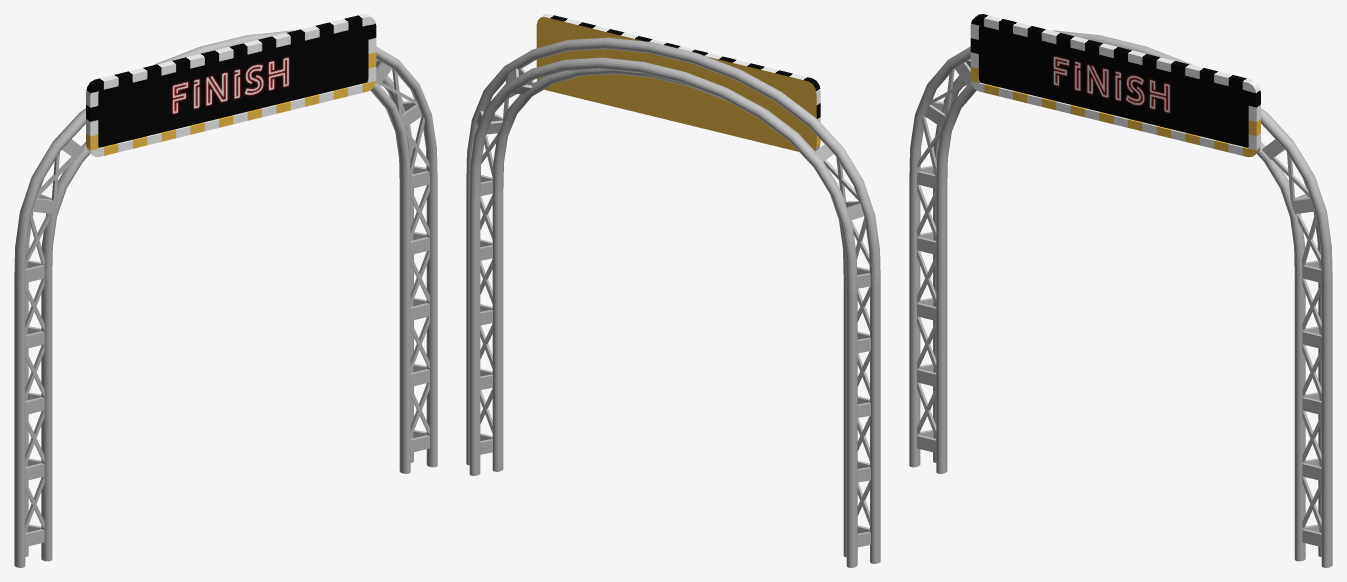
Rendered from Passage.fbx.
3 renders of one model, left to right at view 1: azimuth 30°, elevation 25°; view 2: azimuth 150°, elevation 25°; view 3: azimuth 330°, elevation 25°, orthographic. The views are drawn at different scales.
Parts seen in each view (by area): view 1: pCylinder5, polySurface78, FinishPanel, pCube149, pCube147, pCube150, pCube148, pCube151, pCube152, pCube142, pCube119, pCube121 (+2 smaller); view 2: pCylinder5, FinishPanel, pCube149, pCube148, pCube147, pCube151, pCube150, pCube142, pCube152; view 3: pCylinder5, polySurface78, FinishPanel, pCube149, pCube147, pCube150, pCube148, pCube151, pCube152, pCube142, pCube119, pCube121 (+2 smaller).
Part boxes in pixels (x1=…): pCylinder5: x1=14, y1=30, x2=437, y2=567; polySurface78: x1=98, y1=25, x2=368, y2=147; FinishPanel: x1=86, y1=14, x2=376, y2=157; pCube149: x1=25, y1=250, x2=429, y2=401; pCube147: x1=25, y1=382, x2=429, y2=533; pCube150: x1=25, y1=184, x2=429, y2=335; pCube148: x1=25, y1=316, x2=429, y2=467; pCube151: x1=25, y1=116, x2=429, y2=265; pCube152: x1=36, y1=69, x2=418, y2=200; pCube142: x1=32, y1=101, x2=422, y2=213; pCube119: x1=25, y1=369, x2=429, y2=480; pCube121: x1=25, y1=237, x2=429, y2=348; pCylinder5: x1=466, y1=37, x2=880, y2=567; FinishPanel: x1=536, y1=14, x2=820, y2=151; pCube149: x1=480, y1=259, x2=869, y2=396; pCube148: x1=480, y1=324, x2=869, y2=460; pCube147: x1=480, y1=389, x2=869, y2=525; pCube151: x1=481, y1=134, x2=869, y2=264; pCube150: x1=480, y1=195, x2=869, y2=331; pCube142: x1=476, y1=111, x2=864, y2=220; pCube152: x1=503, y1=78, x2=858, y2=202; pCylinder5: x1=909, y1=30, x2=1332, y2=567; polySurface78: x1=978, y1=25, x2=1248, y2=147; FinishPanel: x1=970, y1=14, x2=1260, y2=157; pCube149: x1=917, y1=250, x2=1321, y2=401; pCube147: x1=917, y1=382, x2=1321, y2=533; pCube150: x1=917, y1=184, x2=1321, y2=335; pCube148: x1=917, y1=316, x2=1321, y2=467; pCube151: x1=917, y1=116, x2=1321, y2=265; pCube152: x1=928, y1=69, x2=1310, y2=200; pCube142: x1=924, y1=101, x2=1314, y2=213; pCube119: x1=917, y1=369, x2=1321, y2=480; pCube121: x1=917, y1=237, x2=1321, y2=348.
Bounding box in the file's own units: 5.34 × 5.74 × 0.4553.
Materials: 4 (2 with a texture image).
